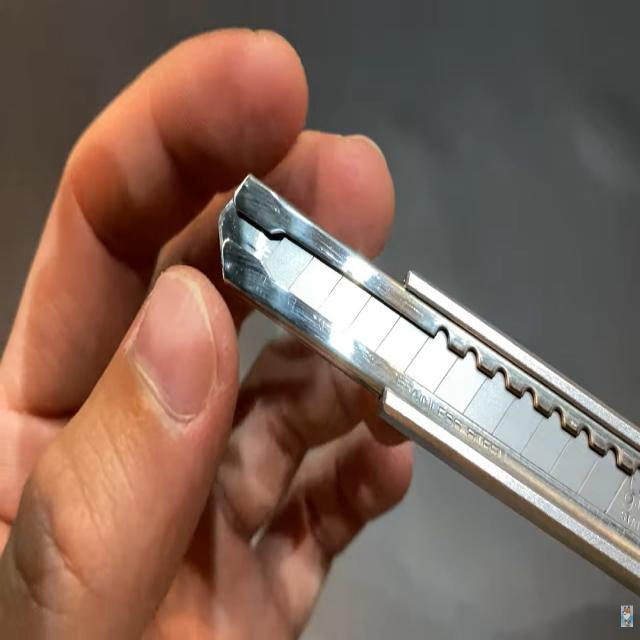cutter: (183, 26, 640, 607)
